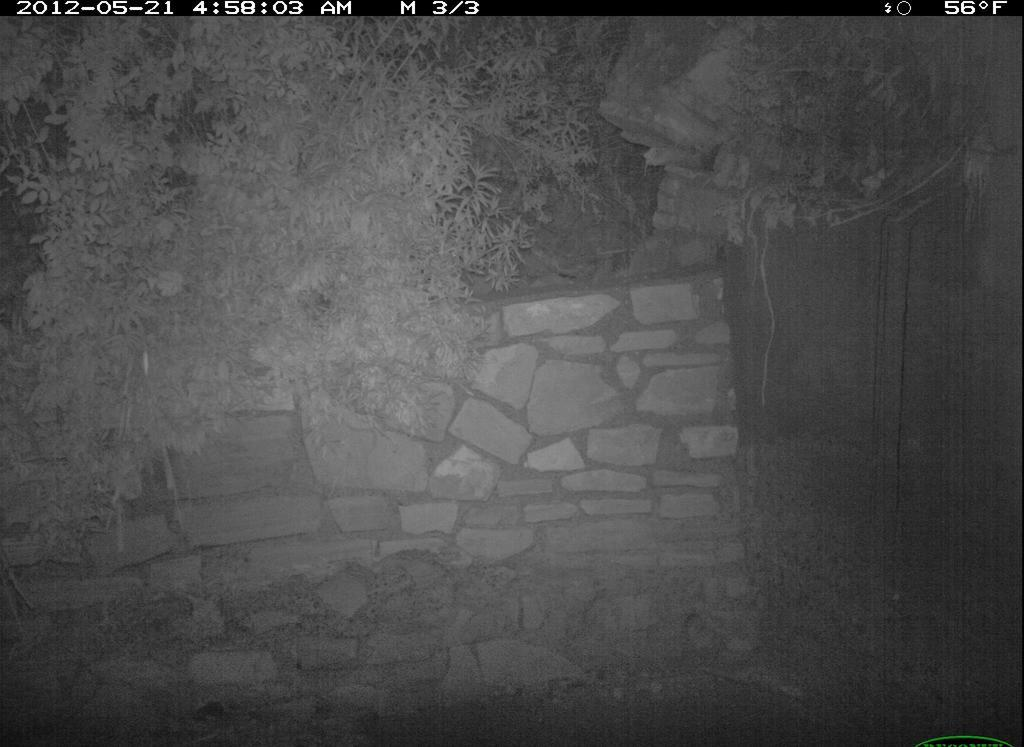raccoon: (737, 578, 902, 747)
